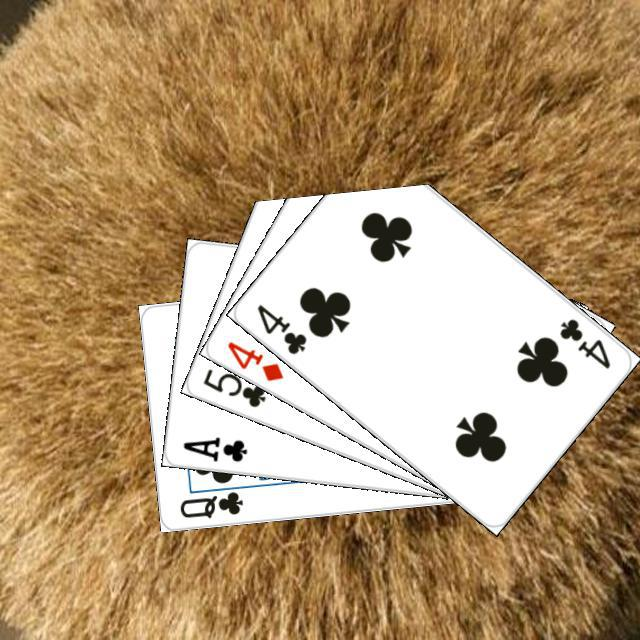4c: (554, 313, 613, 371), (251, 299, 309, 356)
4d: (222, 336, 285, 383)
5c: (198, 363, 268, 409)
Ac: (178, 432, 249, 464)
Qc: (174, 480, 250, 520)
